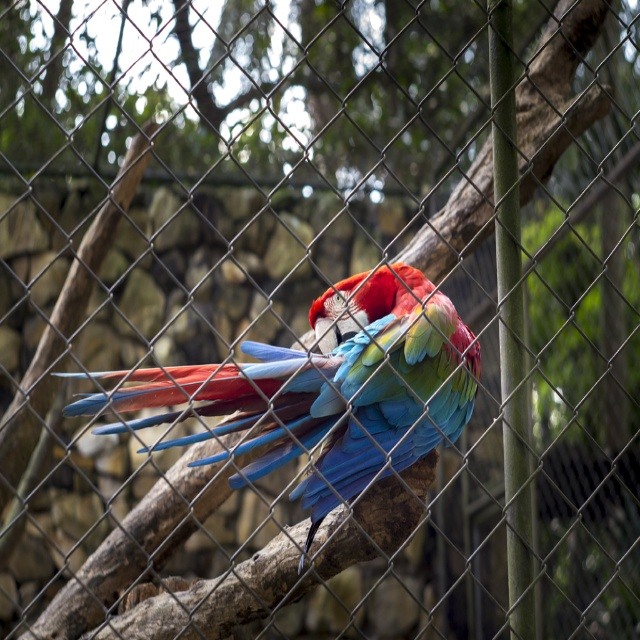Parrot: (49, 258, 478, 569)
